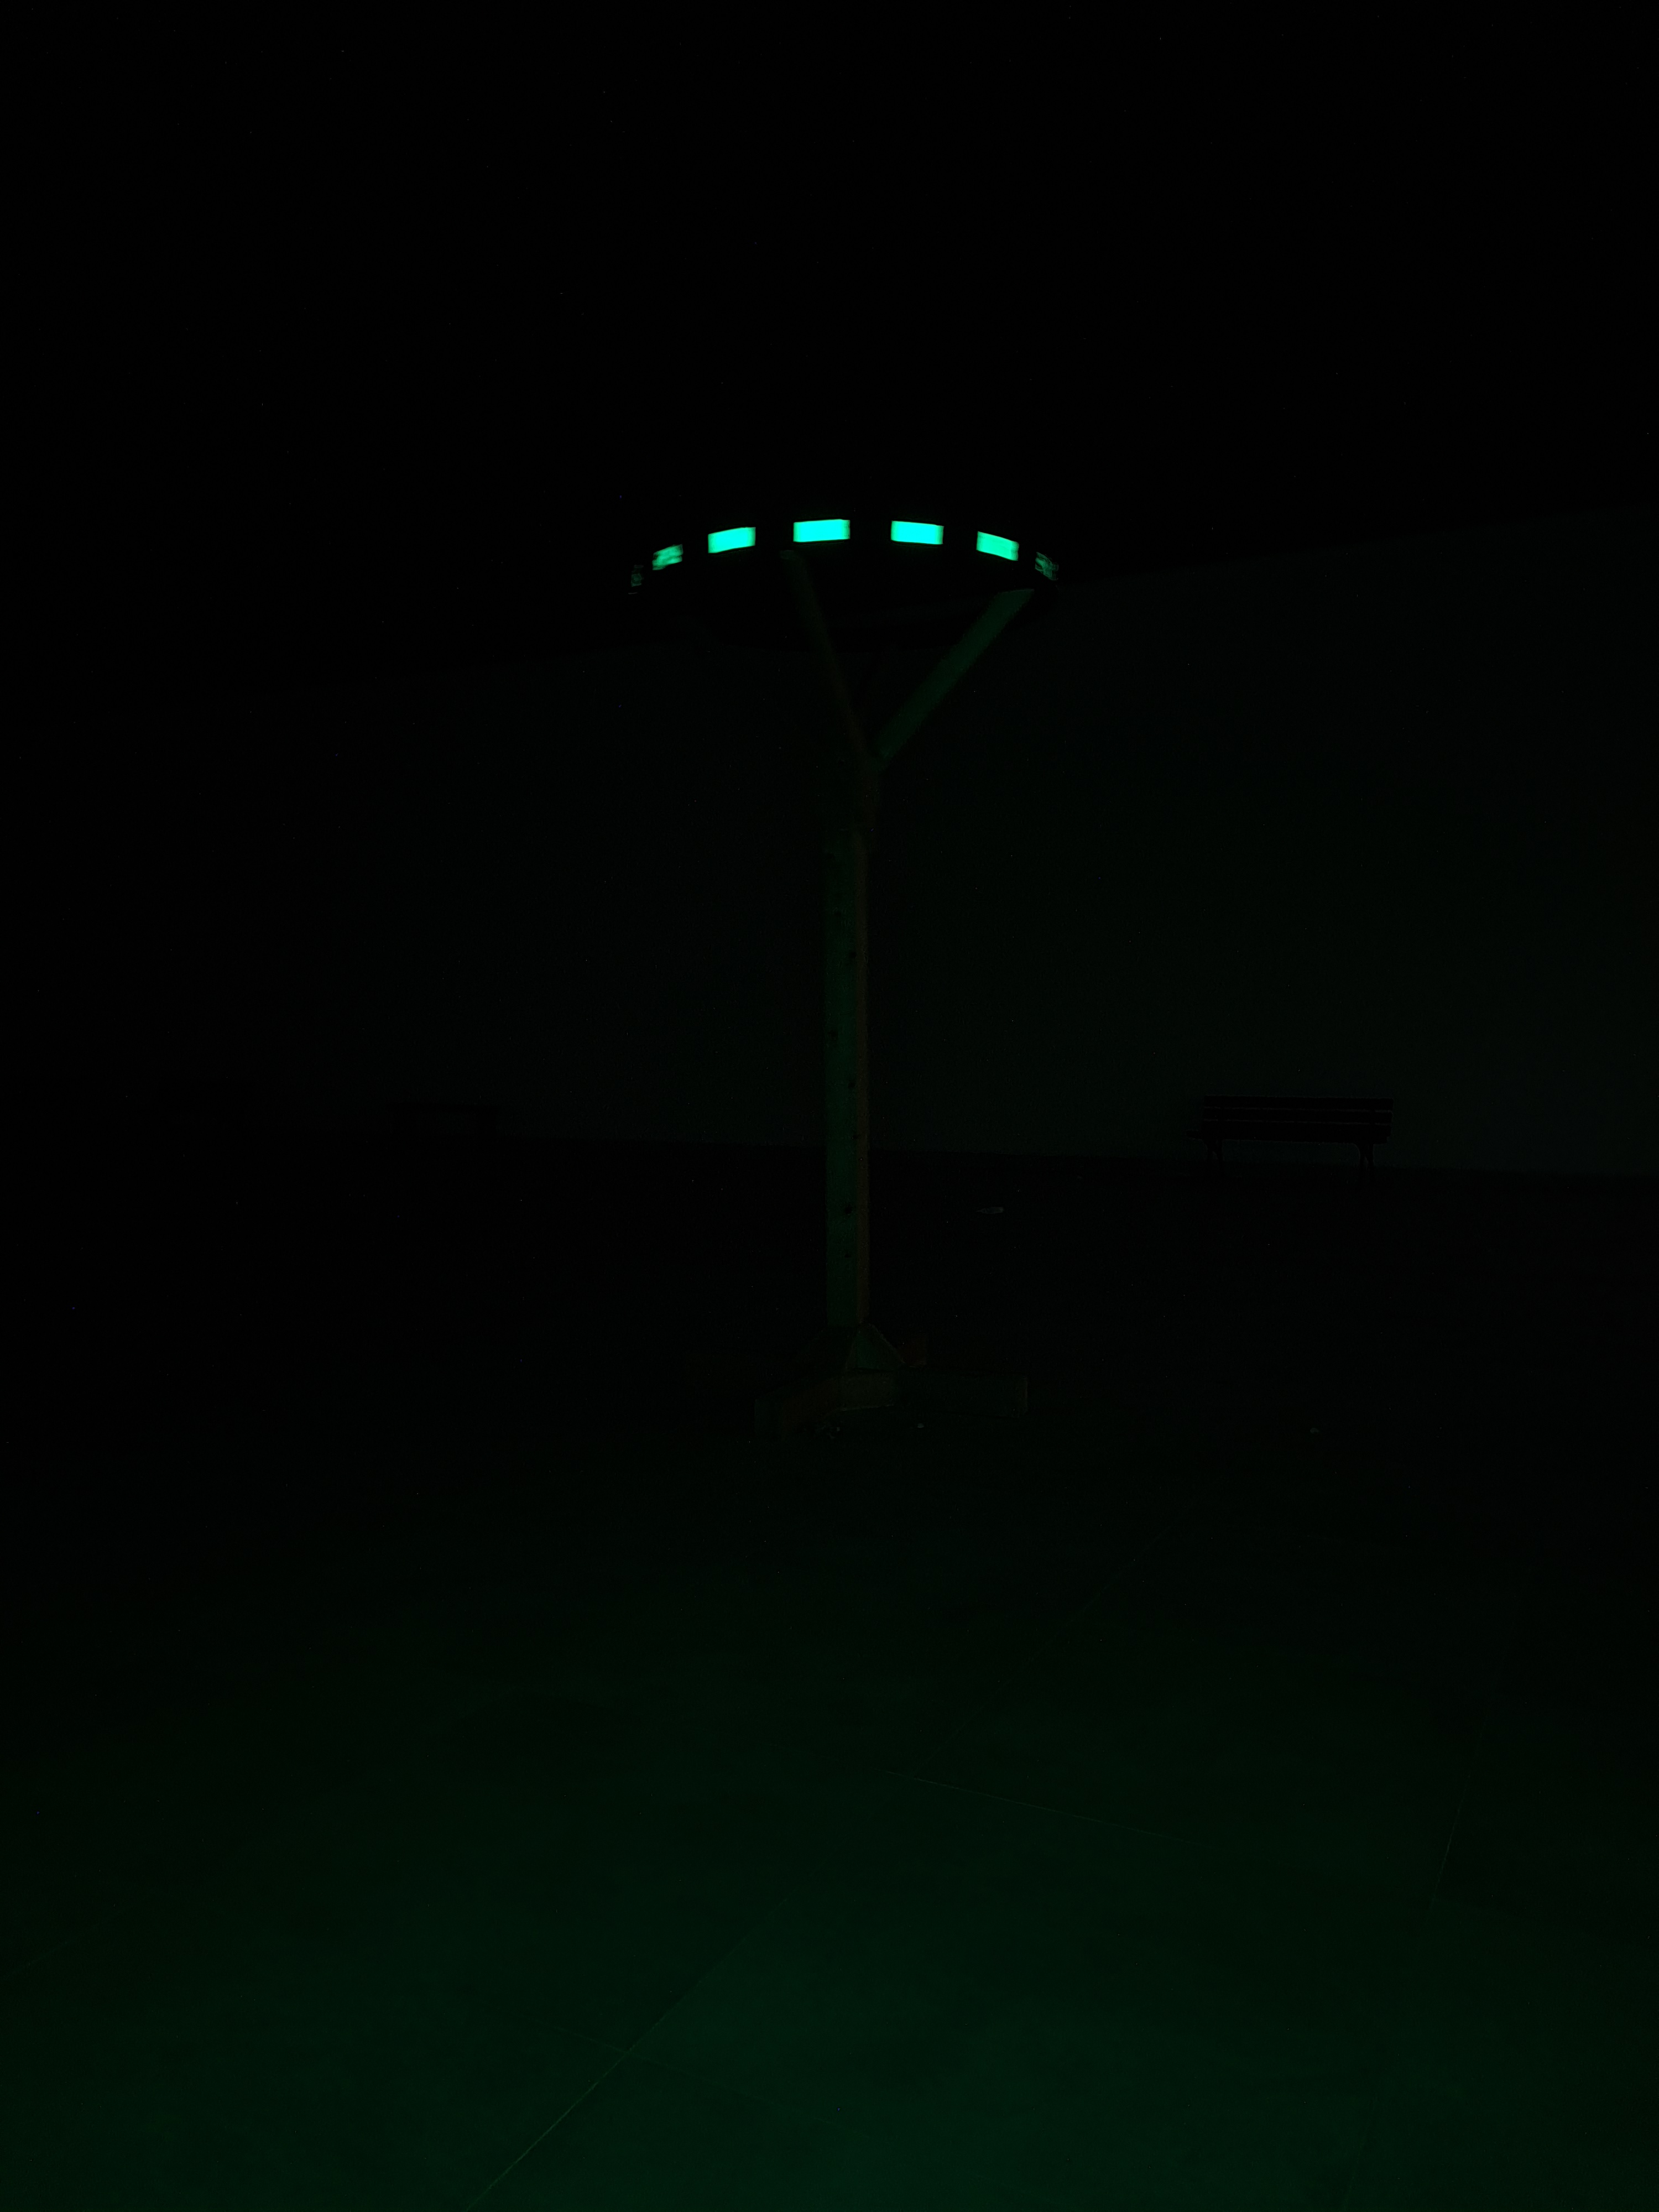hoop: (650, 512, 1058, 590)
